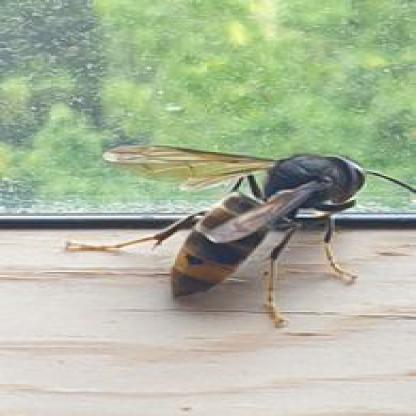Asian Hornet: (66, 141, 414, 326)
